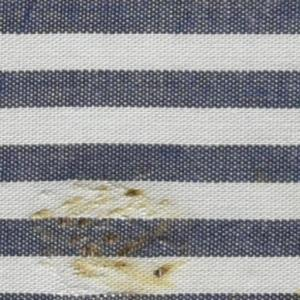Oil Stain: (25, 178, 190, 300)
